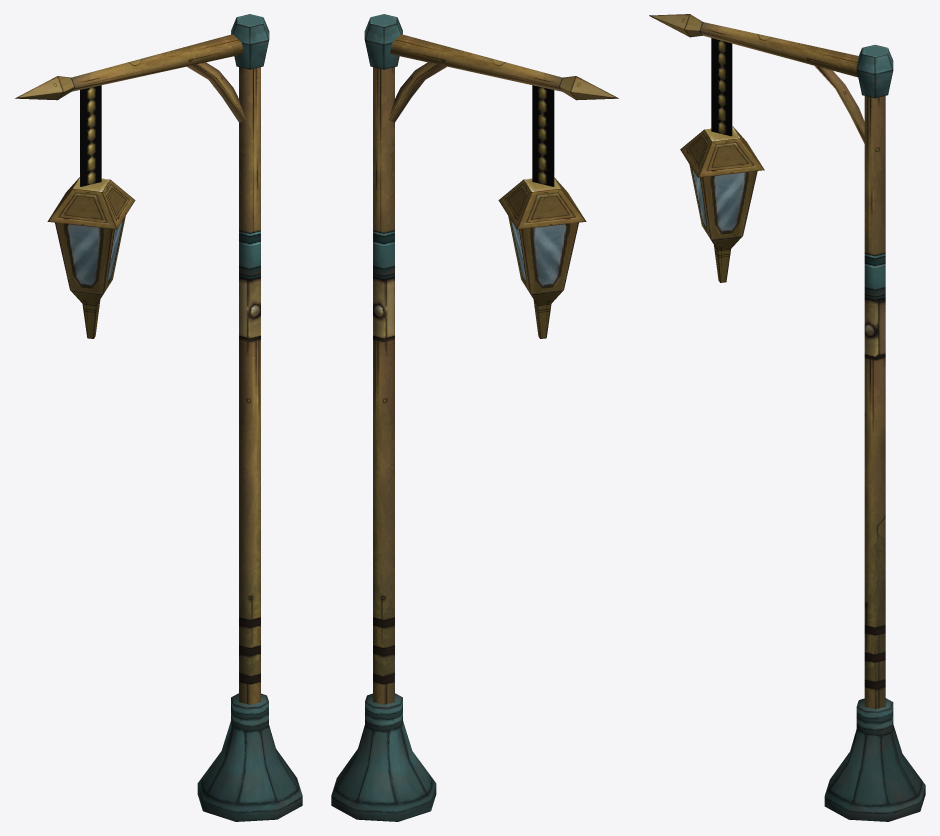
File: 2_SM_LuDeng_01.FBX
3 renders of one model, left to right at view 1: azimuth 30°, elevation 25°; view 2: azimuth 150°, elevation 25°; view 3: azimuth 330°, elevation 25°, orthographic. The views are drawn at different scales.
Parts seen in each view (by area): view 1: 2_SM_LuDeng_01; view 2: 2_SM_LuDeng_01; view 3: 2_SM_LuDeng_01.
Boxes of the visible parts, x1,y1,x2,y2 form: 2_SM_LuDeng_01: (15,14,302,821); 2_SM_LuDeng_01: (331,14,618,821); 2_SM_LuDeng_01: (649,14,925,821).
Size of the model in its own units: 295 by 778 by 98.42.
